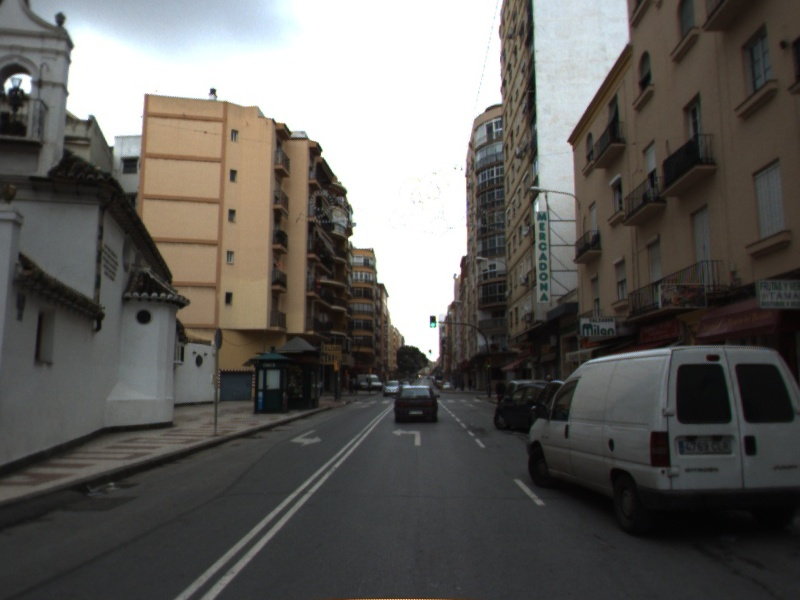LEFT: (390, 427, 423, 447)
